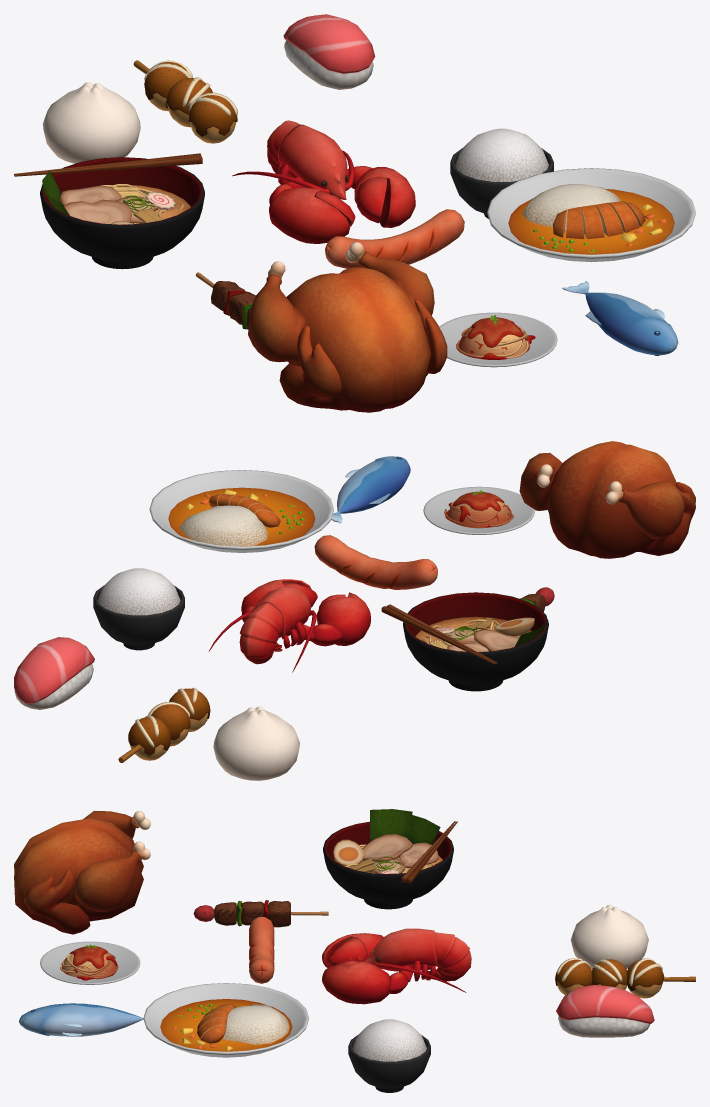
File: food1.fbx
The picture shows the model from 3 angles, top to bottom: view 1: azimuth 30°, elevation 25°; view 2: azimuth 150°, elevation 25°; view 3: azimuth 270°, elevation 25°; orthographic projection. The views are drawn at different scales.
Visible parts, largest first — view 1: RoastedChicken, CurryAndRice, Ramen, Lobster, SteamedBuns, Rice, Sushi, Spaghetti, Takoyaki, Fish, Sausage, BBQ; view 2: RoastedChicken, CurryAndRice, Ramen, Lobster, Rice, SteamedBuns, Sushi, Spaghetti, Takoyaki, Sausage, Fish; view 3: RoastedChicken, CurryAndRice, Ramen, Lobster, Rice, Sushi, SteamedBuns, Spaghetti, Takoyaki, Fish, BBQ, Sausage.
Part boxes in pixels (x1,y1,x2,y2): RoastedChicken: (248,242,447,412); CurryAndRice: (487,168,695,262); Ramen: (14,153,204,269); Lobster: (232,120,415,243); SteamedBuns: (42,82,140,163); Rice: (450,128,553,218); Sushi: (283,14,375,89); Spaghetti: (439,312,557,367); Takoyaki: (133,60,237,143); Fish: (562,281,678,355); Sausage: (325,209,464,268); BBQ: (195,272,256,329); RoastedChicken: (519,441,695,558); CurryAndRice: (149,470,333,552); Ramen: (381,592,548,691); Lobster: (208,579,370,672); Rice: (93,568,184,650); SteamedBuns: (213,706,299,780); Sushi: (14,637,94,709); Spaghetti: (423,486,535,534); Takoyaki: (118,687,210,762); Sausage: (314,535,437,589); Fish: (331,456,410,523); RoastedChicken: (14,810,150,934); CurryAndRice: (143,983,309,1057); Ramen: (323,809,457,909); Lobster: (322,928,471,1004); Rice: (348,1019,430,1092); Sushi: (556,985,654,1037); SteamedBuns: (570,904,648,968); Spaghetti: (40,941,140,984); Takoyaki: (555,958,695,998); Fish: (19,1003,143,1036); BBQ: (193,900,328,927); Sausage: (249,916,274,983).
Size of the model in its own units: 644 by 190 by 902.
Materials: 12 (12 with a texture image).
